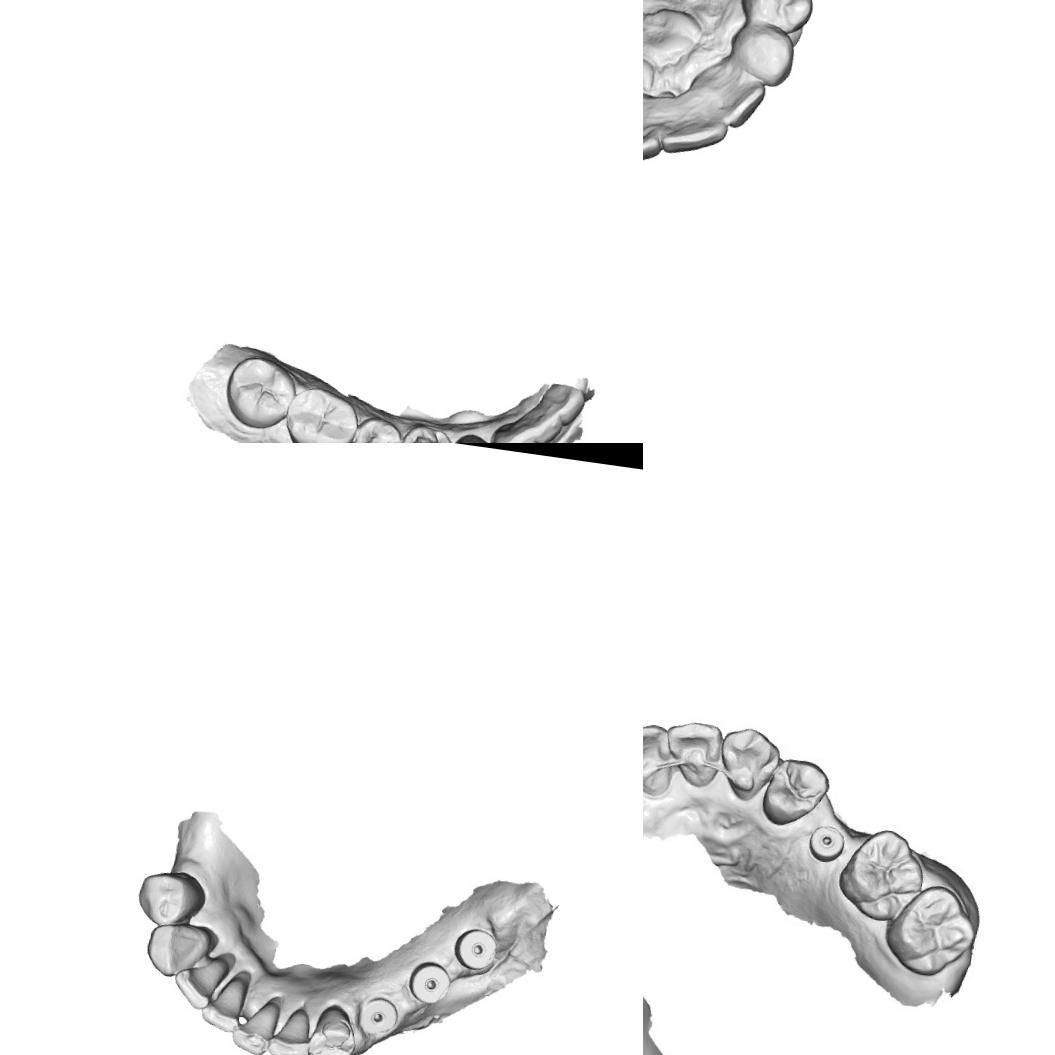canine: (713, 718, 783, 804), (723, 15, 802, 91), (139, 920, 218, 984), (302, 1000, 360, 1055), (443, 427, 504, 443)
implant: (450, 922, 502, 976), (353, 989, 404, 1042), (406, 956, 456, 1010), (804, 818, 850, 866)
incisor: (655, 89, 732, 162), (696, 62, 770, 134), (195, 967, 254, 1039), (664, 720, 722, 791), (168, 952, 228, 1016), (265, 996, 321, 1055), (223, 998, 280, 1055), (643, 718, 678, 800), (534, 380, 589, 430), (517, 398, 567, 443), (643, 96, 667, 176), (486, 417, 544, 443)
molar: (882, 880, 978, 982), (834, 824, 927, 926), (218, 352, 298, 435), (278, 384, 365, 443)
premolar: (758, 754, 834, 832), (132, 863, 212, 932), (733, 0, 817, 39), (347, 411, 410, 443), (395, 418, 456, 443)
